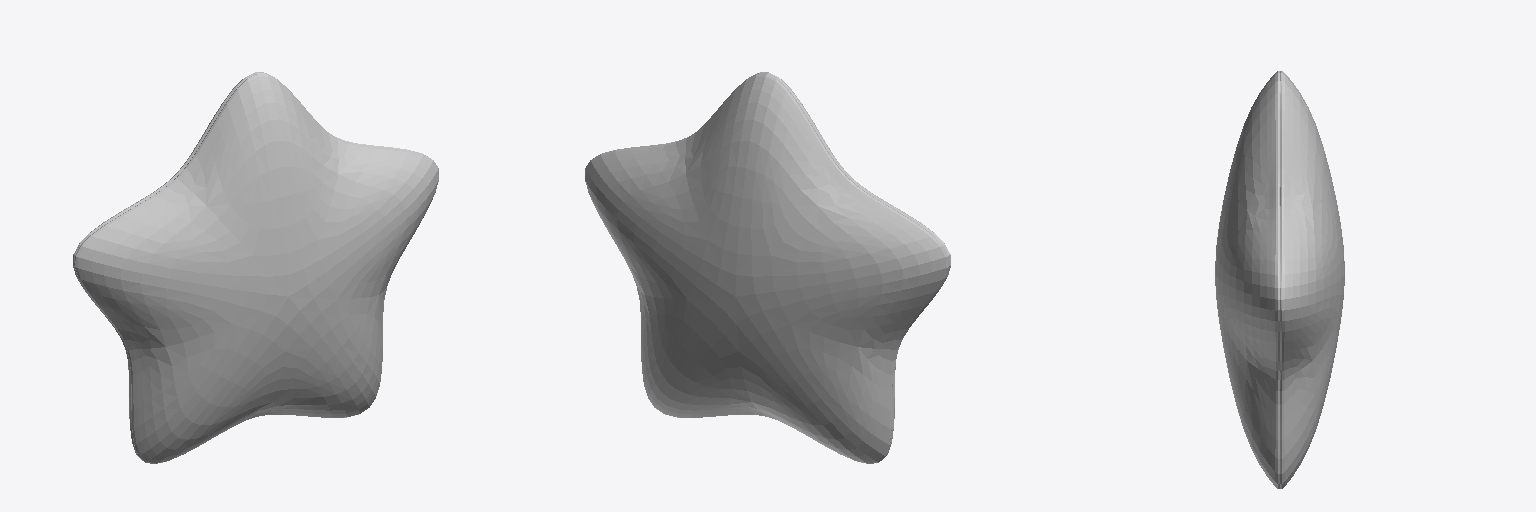
Rendered from Star.obj.
3 views of the same model, side by side, from view 1: azimuth 30°, elevation 25°; view 2: azimuth 150°, elevation 25°; view 3: azimuth 270°, elevation 25° (orthographic).
Parts seen in each view (by area): view 1: Circle_Circle.001; view 2: Circle_Circle.001; view 3: Circle_Circle.001.
Part boxes in pixels (x1,y1,x2,y2): Circle_Circle.001: (73, 72, 438, 463); Circle_Circle.001: (585, 72, 950, 463); Circle_Circle.001: (1215, 71, 1344, 488).
Bounding box in the file's own units: 1.62 × 1.56 × 0.5025.